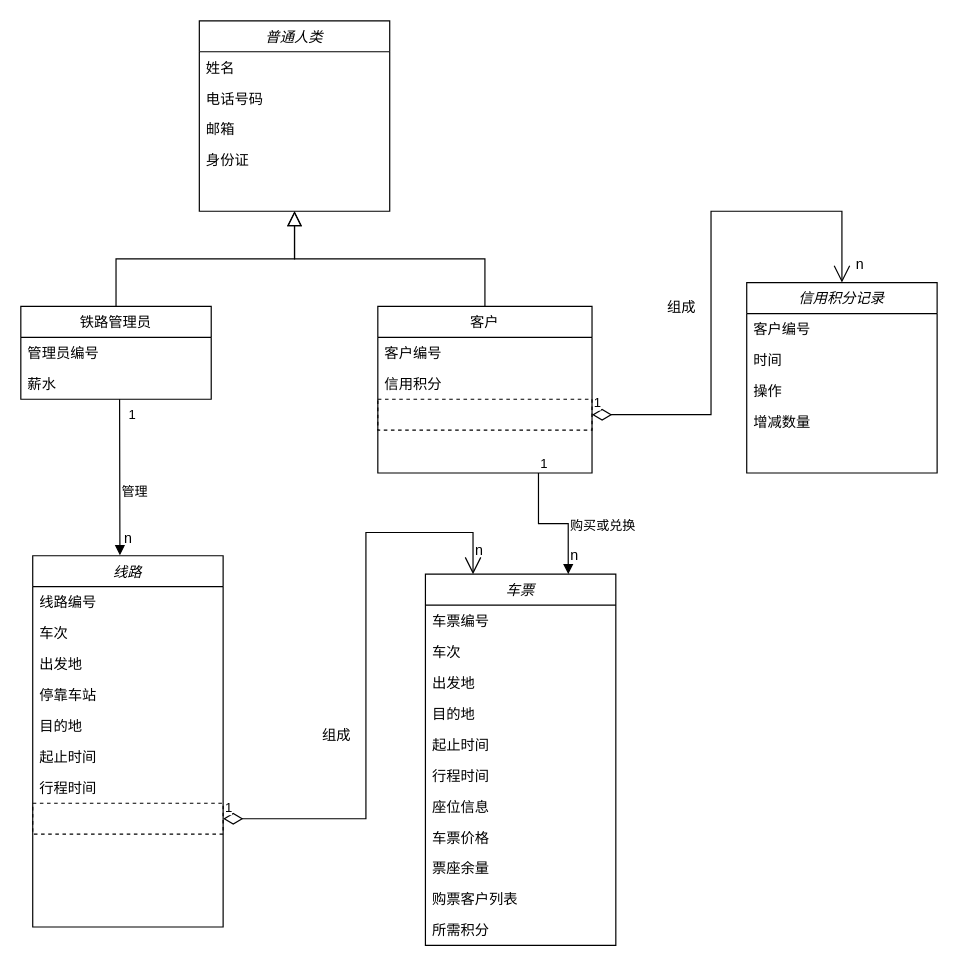
This 958x970 diagram has some shape labels left out. Each missing label, with the centre of its shape:
信用积分记录表: (x=484, y=414)
车票列表: (x=127, y=818)
